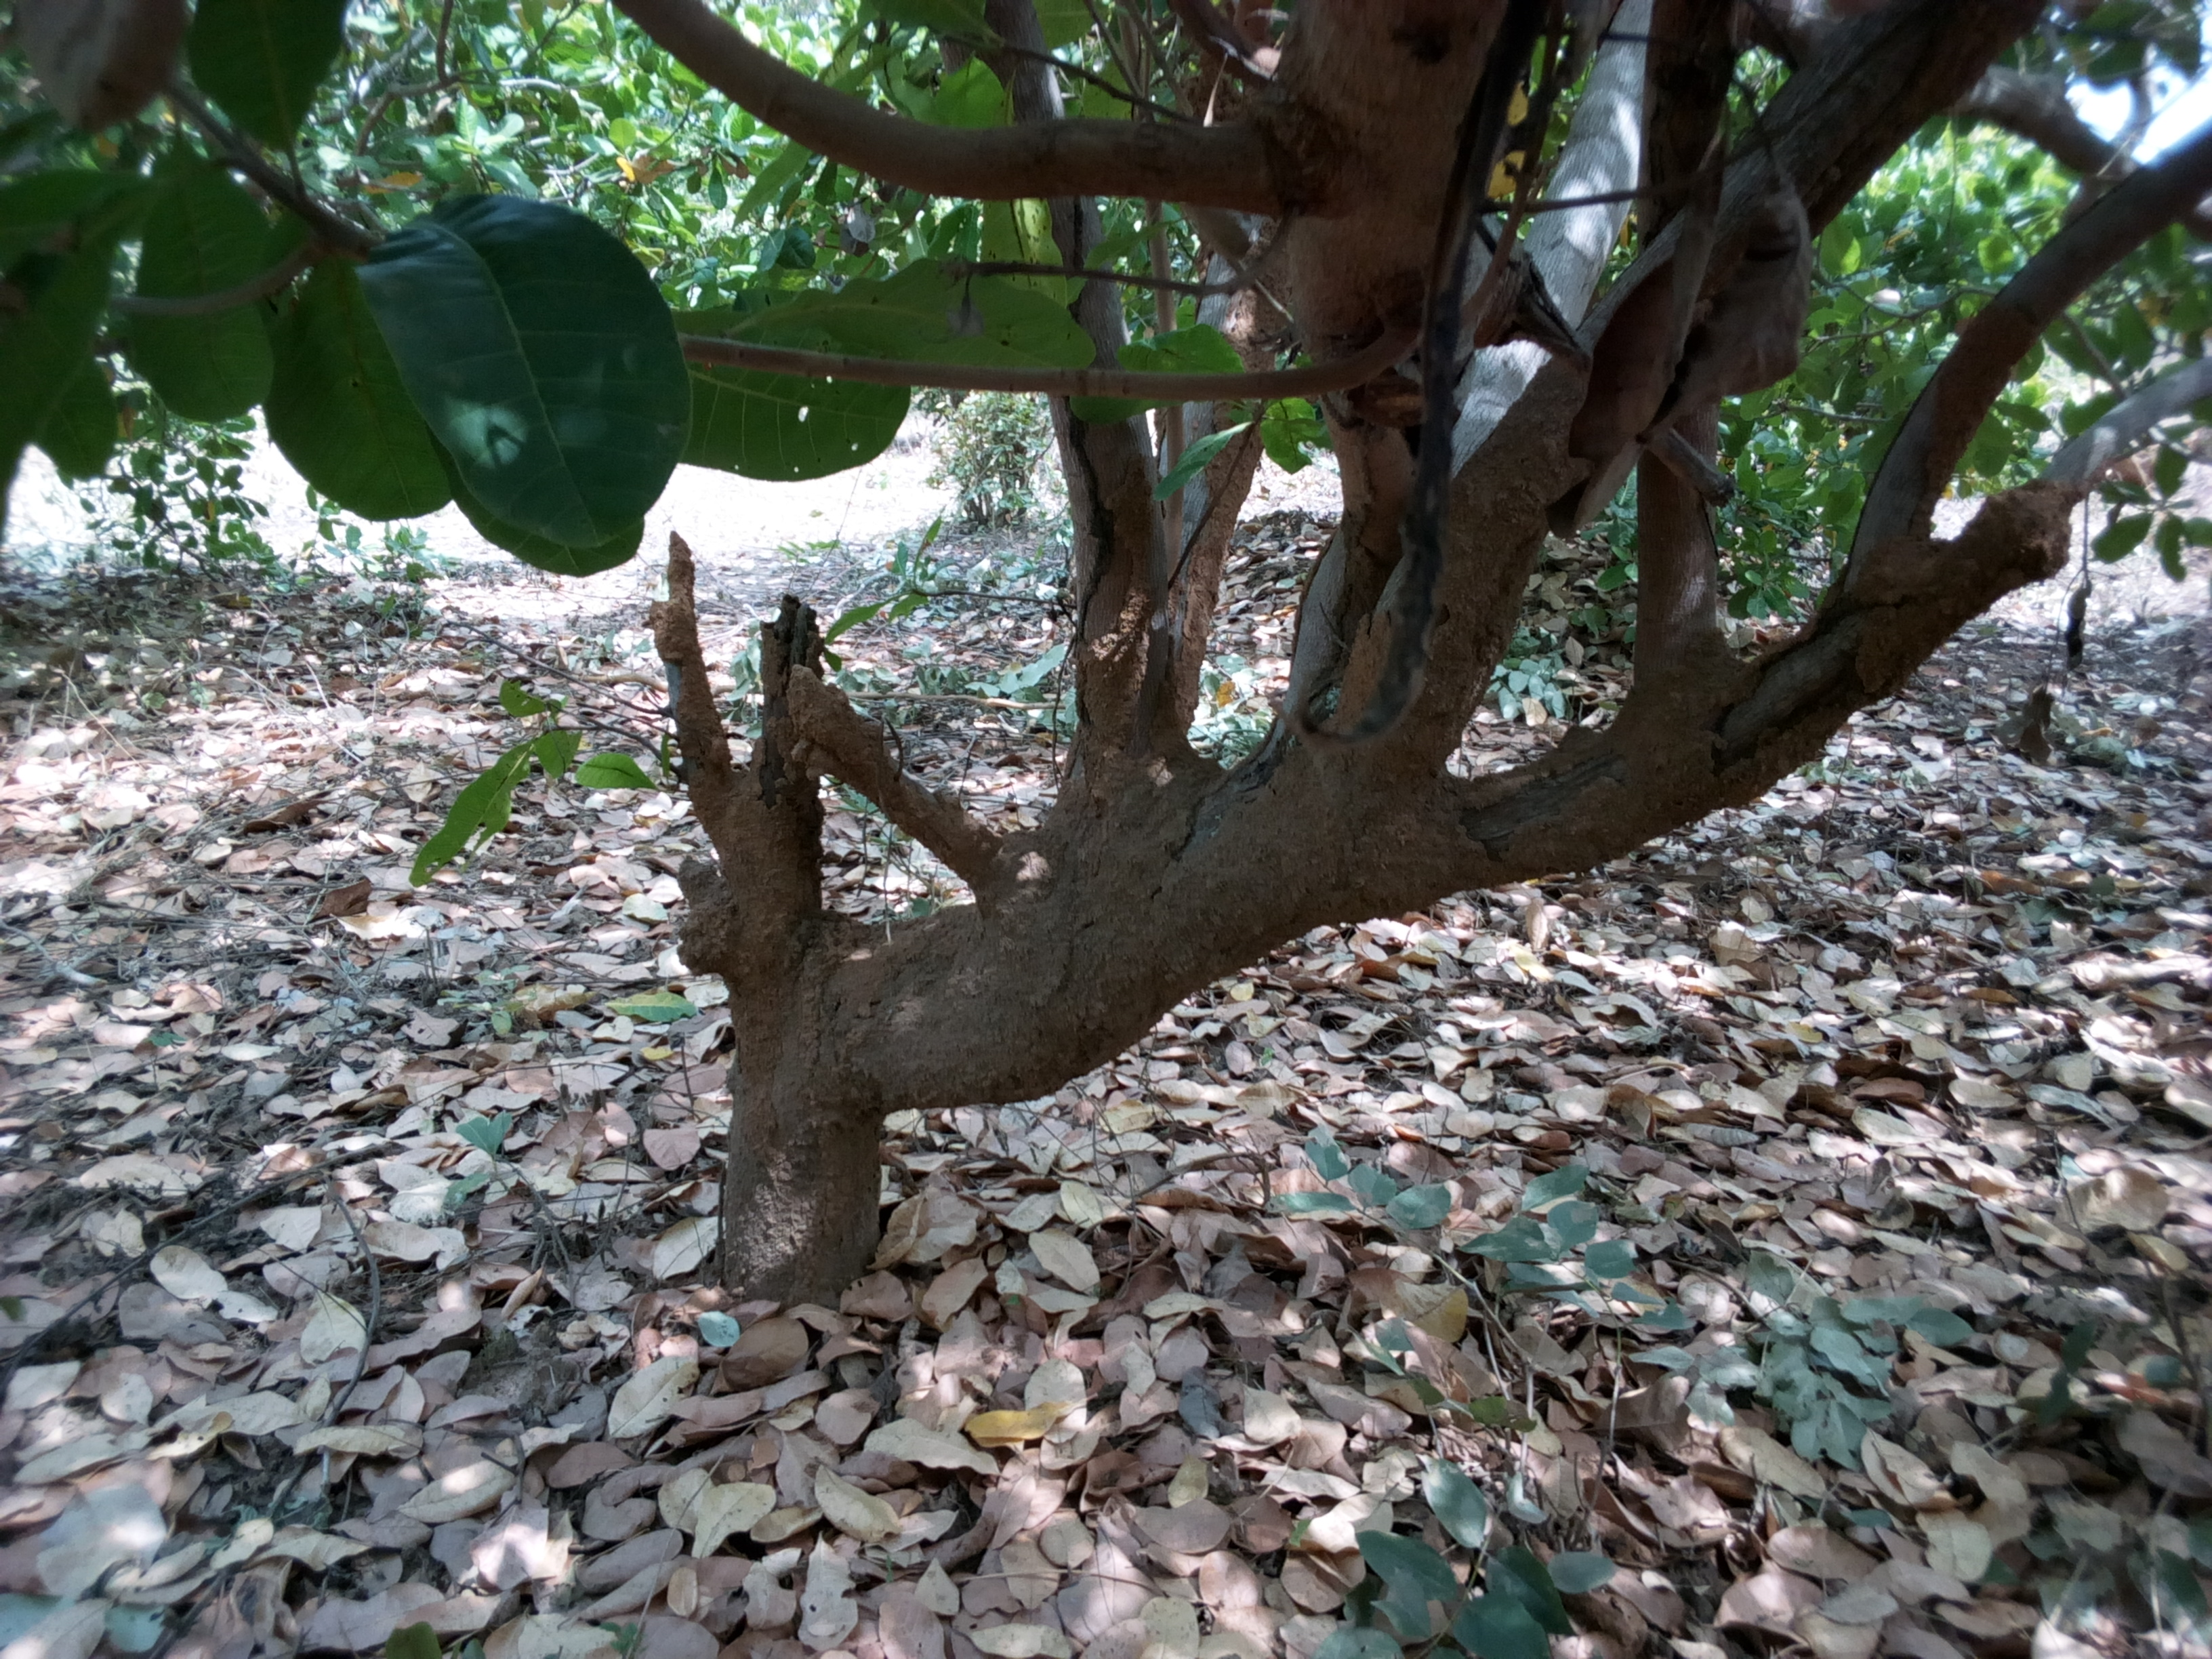Termites: (718, 751, 1454, 1096)
